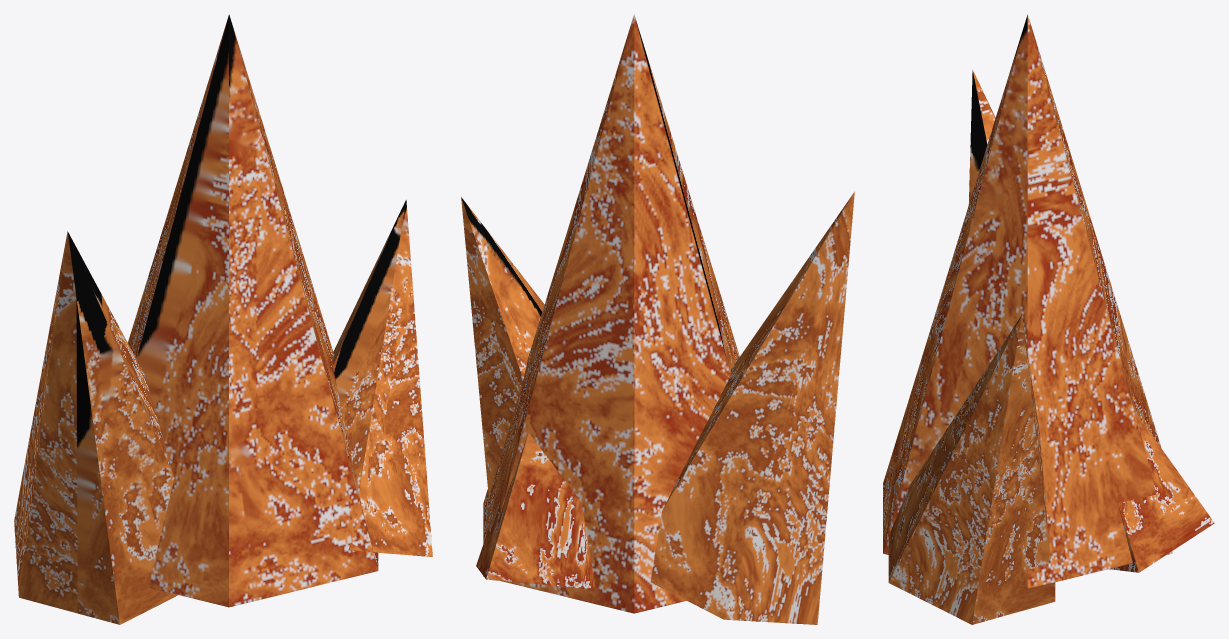
File: pyromite_item_flat.glb
3 renders of one model, left to right at view 1: azimuth 30°, elevation 25°; view 2: azimuth 150°, elevation 25°; view 3: azimuth 270°, elevation 25°, orthographic. The views are drawn at different scales.
Visible parts, largest first — view 1: FlameMain, FlameLeft, FlameRight; view 2: FlameMain, FlameLeft, FlameRight, FlameBack; view 3: FlameMain, FlameRight, FlameBack, FlameLeft.
Part boxes in pixels (bbox=[...]): FlameMain: bbox=[128, 14, 378, 607]; FlameLeft: bbox=[14, 231, 177, 624]; FlameRight: bbox=[333, 200, 432, 556]; FlameMain: bbox=[483, 14, 739, 613]; FlameLeft: bbox=[650, 191, 854, 624]; FlameRight: bbox=[461, 197, 544, 496]; FlameBack: bbox=[476, 433, 595, 588]; FlameMain: bbox=[883, 14, 1172, 588]; FlameRight: bbox=[888, 315, 1055, 624]; FlameBack: bbox=[1109, 411, 1214, 572]; FlameLeft: bbox=[968, 70, 995, 204].
Bounding box in the file's own units: 0.1488 × 0.2116 × 0.1192.
3 materials, 3 textured.
